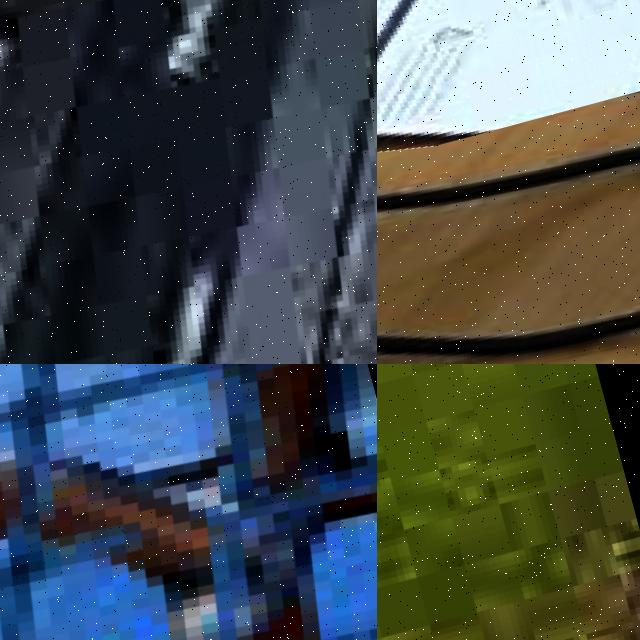drone: (0, 0, 377, 364), (0, 364, 377, 640), (377, 28, 640, 364)
